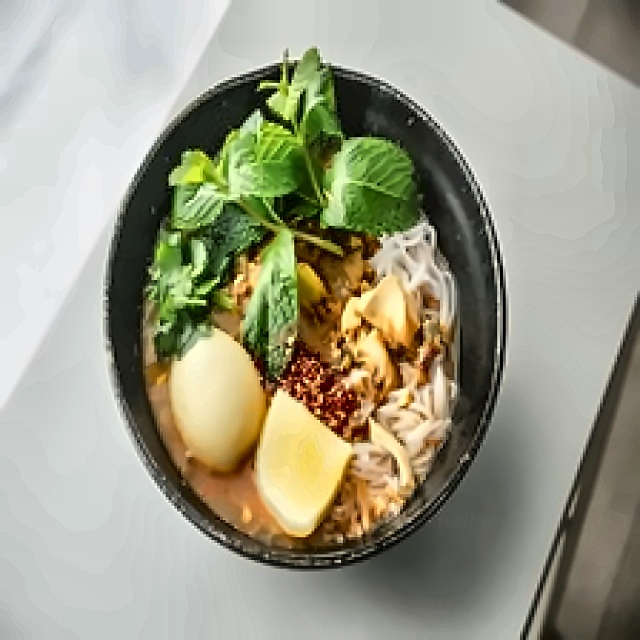egg: (170, 327, 262, 472)
lime_wedge: (270, 400, 354, 534)
noodle: (356, 239, 456, 503)
